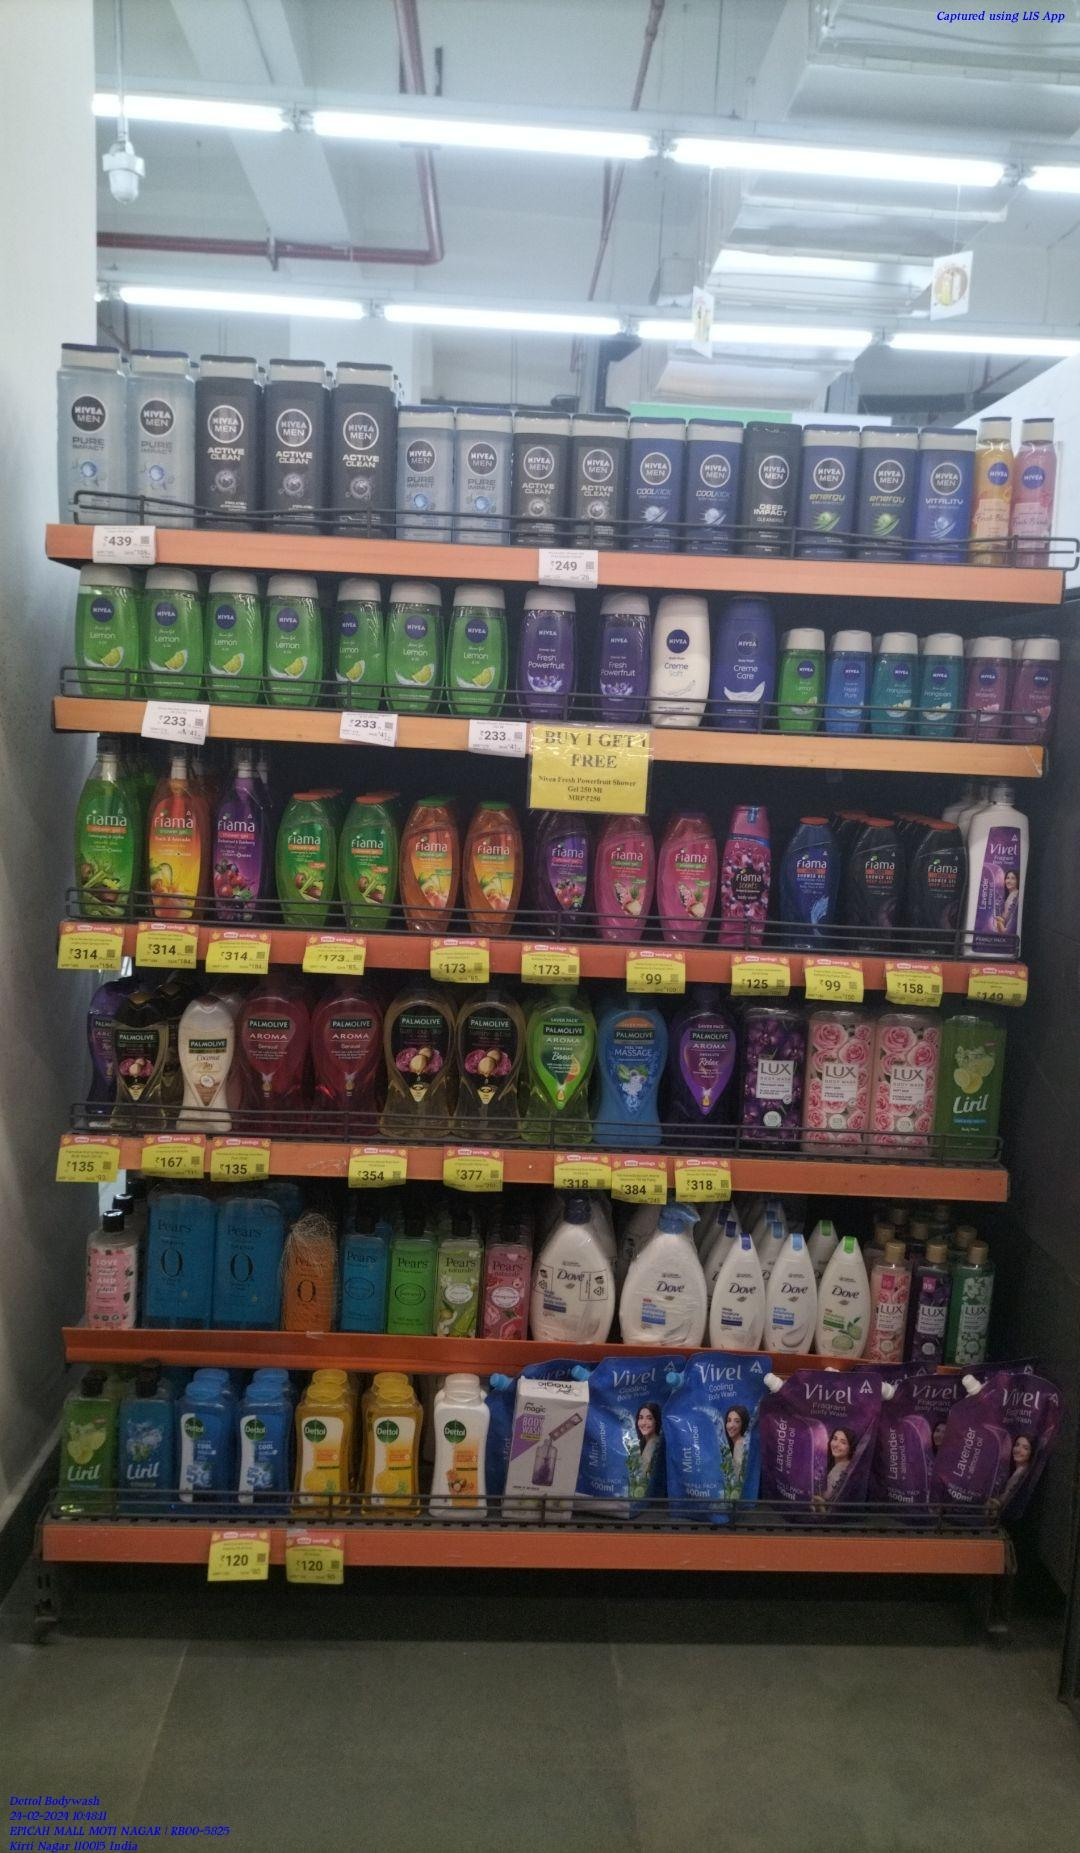Dettol_Bodywash_Cool: (176, 1384, 235, 1514), (238, 1383, 294, 1514)
Dettol_Bodywash_Refresh: (364, 1381, 426, 1518), (294, 1385, 354, 1509)
Dettol_Nourish_Body_Wash_250ML: (428, 1379, 491, 1516)
Dove_Deep_Moisture_Body_Wash_250ML: (710, 1243, 762, 1352)
Dove_Gentle_Exfoliating_Body_Wash_250ML: (768, 1241, 815, 1353)
Dove_Refreshing_Body_Wash_250ML: (818, 1241, 868, 1356)
Fiama_Shower_Gel_Lemongrass_and_Jojoba_250ML: (276, 797, 334, 928), (339, 799, 397, 930)
Fiama_Shower_Gel_Patchouli_and_Macadamia_250ML: (658, 816, 719, 946), (599, 808, 652, 941)
Fiama_Shower_Gel_Peach_and_Avocado_250ML: (399, 801, 462, 930), (465, 803, 523, 935)
Liril_Cooling_Mint_Body_Wash_250ML: (117, 1383, 175, 1514)
Liril_Lime_and_Tea_Tree_Oil_Body_Wash_250ML: (60, 1378, 117, 1519)
Lux_Black_Orchid_Scent_and_Juniper_Oil_Body_Wash_245ML: (908, 1244, 950, 1362)
Lux_Body_Wash_Skin_Detox_Freesia_Scent_and_Alove_Vera_245ML: (953, 1245, 991, 1365)
Nivea_Creme_Care_Body_Wash_250ML: (715, 594, 773, 734)
Nivea_Creme_Soft_Body_Wash_250ML: (653, 591, 711, 729)
Nivea_Shower_Gel_Frangipani_and_Oil_250ML: (873, 632, 919, 736), (923, 632, 963, 738)
Nivea_Shower_Gel_Fresh_Powerfruit_250ML: (516, 585, 579, 718), (594, 591, 651, 717)
Nivea_Shower_Gel_Lemon_and_Oil_250ML: (76, 564, 139, 699), (141, 565, 204, 699), (450, 581, 510, 716), (387, 578, 446, 716), (207, 568, 262, 704), (265, 574, 321, 705), (329, 573, 384, 705), (775, 625, 823, 736)
Nivea_Shower_Gel_Waterlily_and_Oil_250ML: (964, 635, 1012, 744), (1014, 637, 1061, 743)
Palmolive_Luminous_Oils_Invigorating_Macadamia_Oil_With_Peony_250ML: (111, 1004, 170, 1128)
Palmolive_Luminous_Oils_With_White_Orchid_Shower_Gel_250ML: (174, 1006, 234, 1130)
Pears_Naturale_Aloe_Vera_Body_Wash_250ML: (437, 1218, 482, 1336)
Pears_Pure_Glycerin_and_Lemon_Flower_Extracts_Body_Wash_250ML: (387, 1219, 437, 1334)
Pears_Pure_Glycerin_and_Mint_Extracts_Body_Wash_250ML: (339, 1217, 387, 1334)
